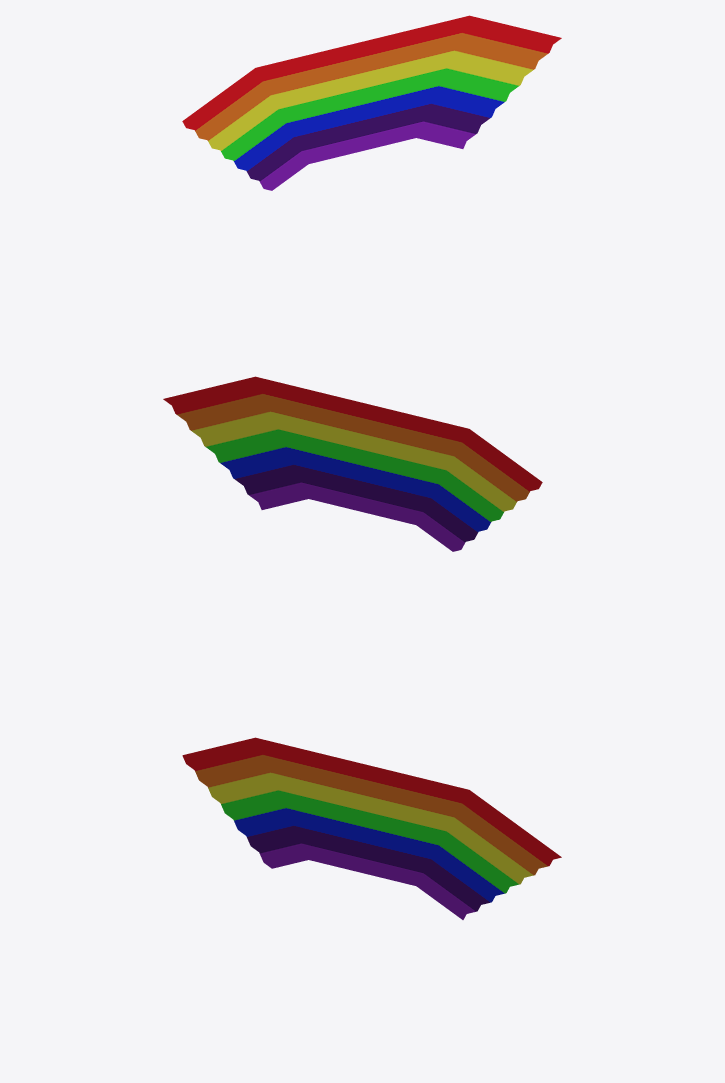
The model's file is Rainbow.fbx.
3 renders of one model, top to bottom at view 1: azimuth 30°, elevation 25°; view 2: azimuth 150°, elevation 25°; view 3: azimuth 330°, elevation 25°, orthographic.
Visible parts, largest first — view 1: Rainbow; view 2: Rainbow; view 3: Rainbow.
Boxes of the visible parts, <box> form: Rainbow: <box>182,15,561,190</box>; Rainbow: <box>163,376,542,551</box>; Rainbow: <box>182,737,561,919</box>.
Size of the model in its own units: 6 by 1.82 by 0.
